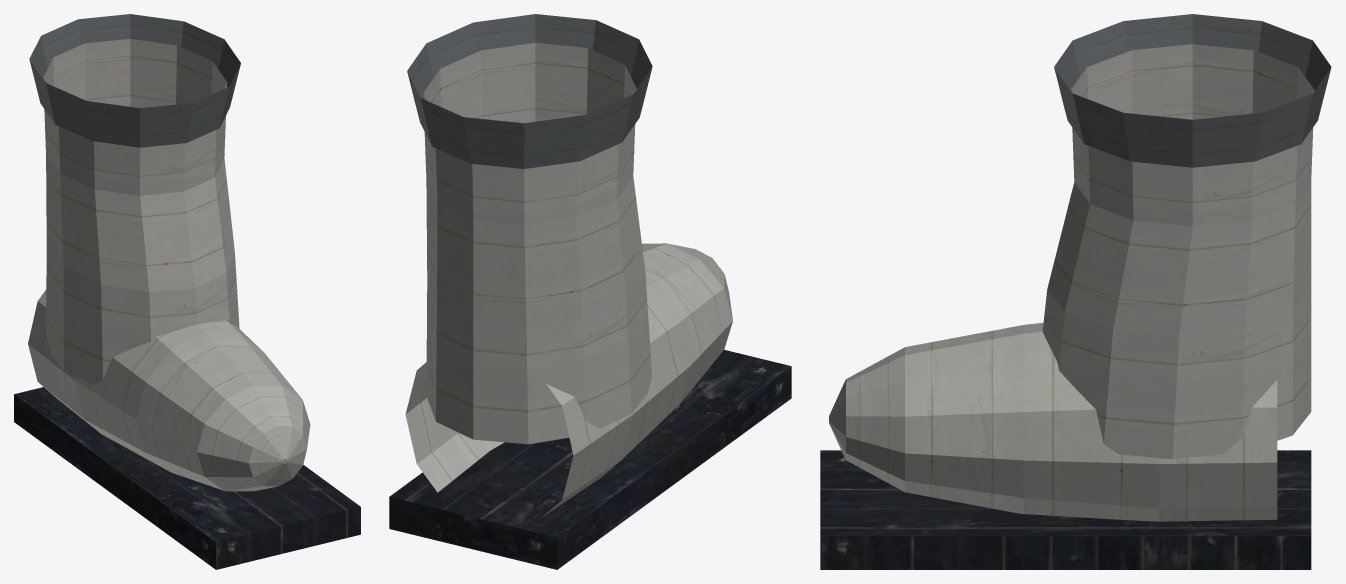
File: eq_future_1_boot.glb
3 renders of one model, left to right at view 1: azimuth 30°, elevation 25°; view 2: azimuth 150°, elevation 25°; view 3: azimuth 270°, elevation 25°, orthographic. The views are drawn at different scales.
Parts seen in each view (by area): view 1: eq_future_1_boot; view 2: eq_future_1_boot; view 3: eq_future_1_boot.
Part boxes in pixels (x1=…): eq_future_1_boot: x1=14, y1=14, x2=360, y2=569; eq_future_1_boot: x1=389, y1=14, x2=791, y2=569; eq_future_1_boot: x1=820, y1=14, x2=1331, y2=569.
Bounding box in the file's own units: 0.148 × 0.3 × 0.302.
Materials: 3 (3 with a texture image).
